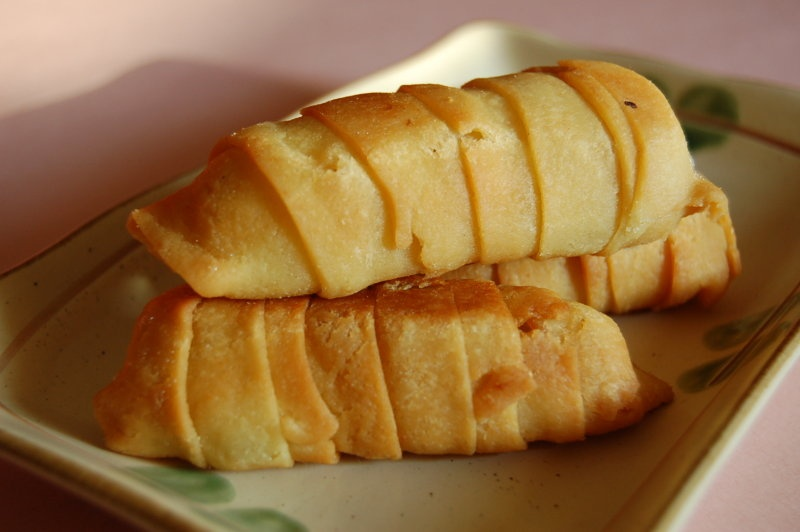pisang_molen: (123, 58, 694, 298), (95, 281, 677, 471)
